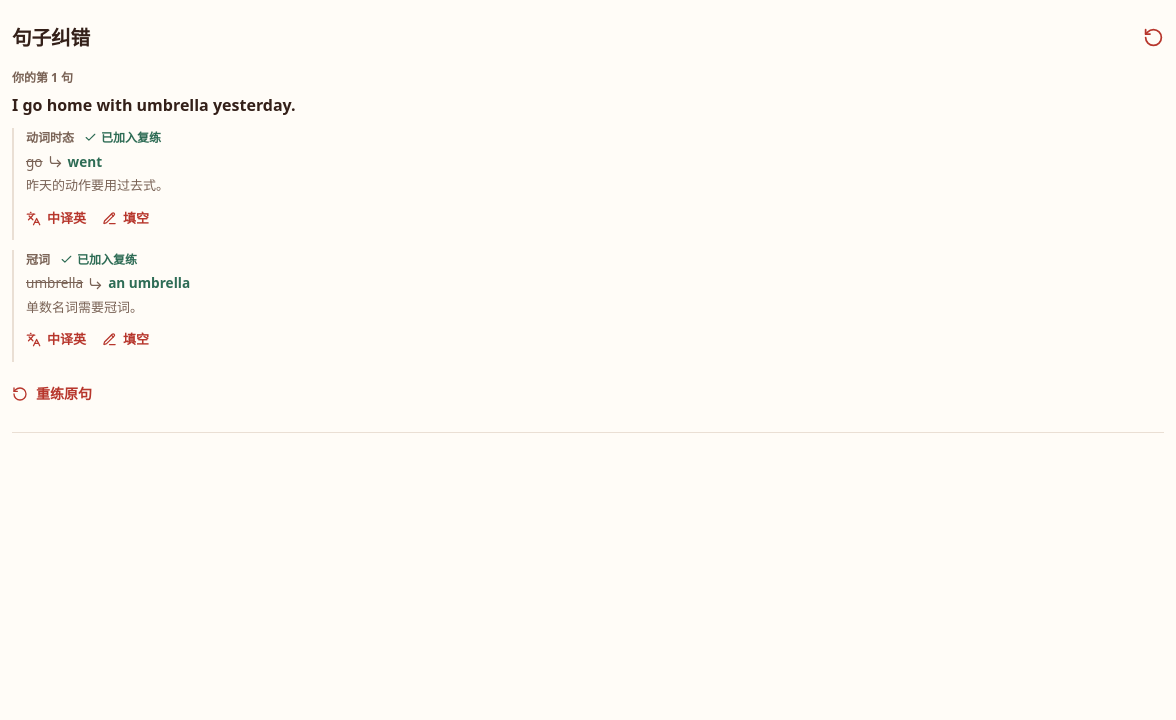
it: closes the previous drill when the learner opens another correction or the whole-sentence replay
The width and height of the screenshot is (1176, 720).
Click the button "填空" below "昨天的动作要用过去式。".
click(126, 218)  # box [102,196,149,240]
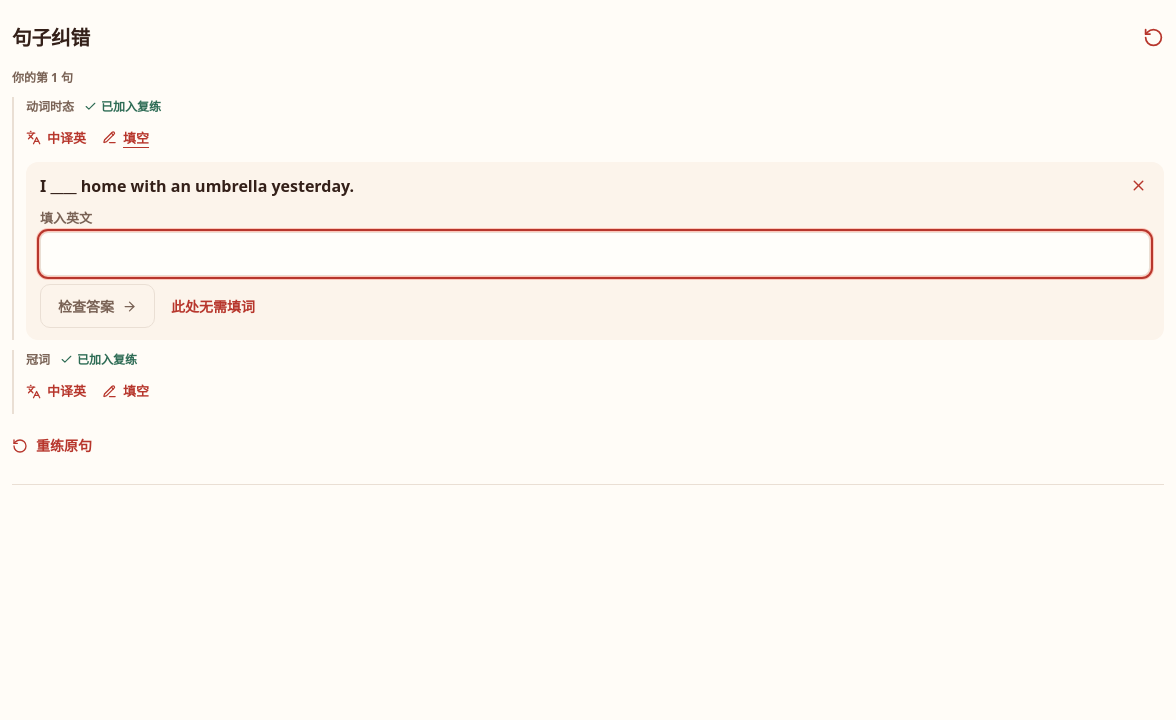
Click the button "填空" below "冠词".
click(126, 392)  # box [102,370,149,414]
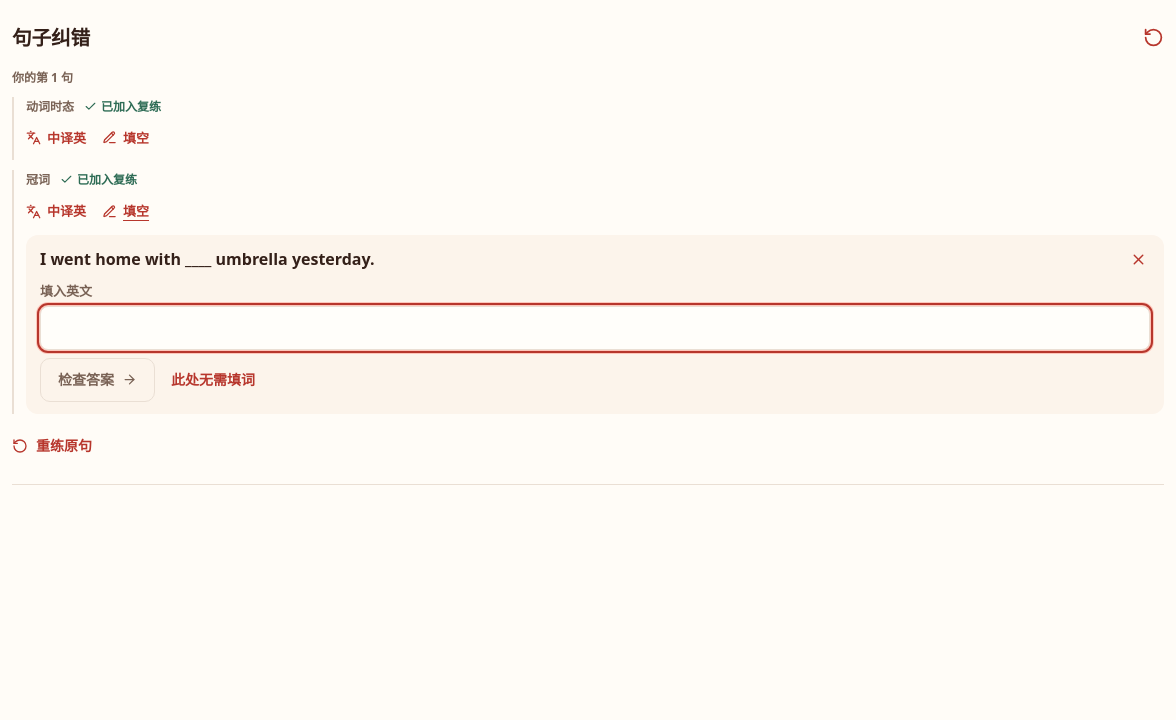
Now the number of elements named "填空练习" is 1, box [26,235,1164,414]
Now the text "I went home with ____ umbrella yesterday." is shown, box [40,248,375,270]
Click the button "重练原句".
click(52, 446)  # box [12,424,92,468]
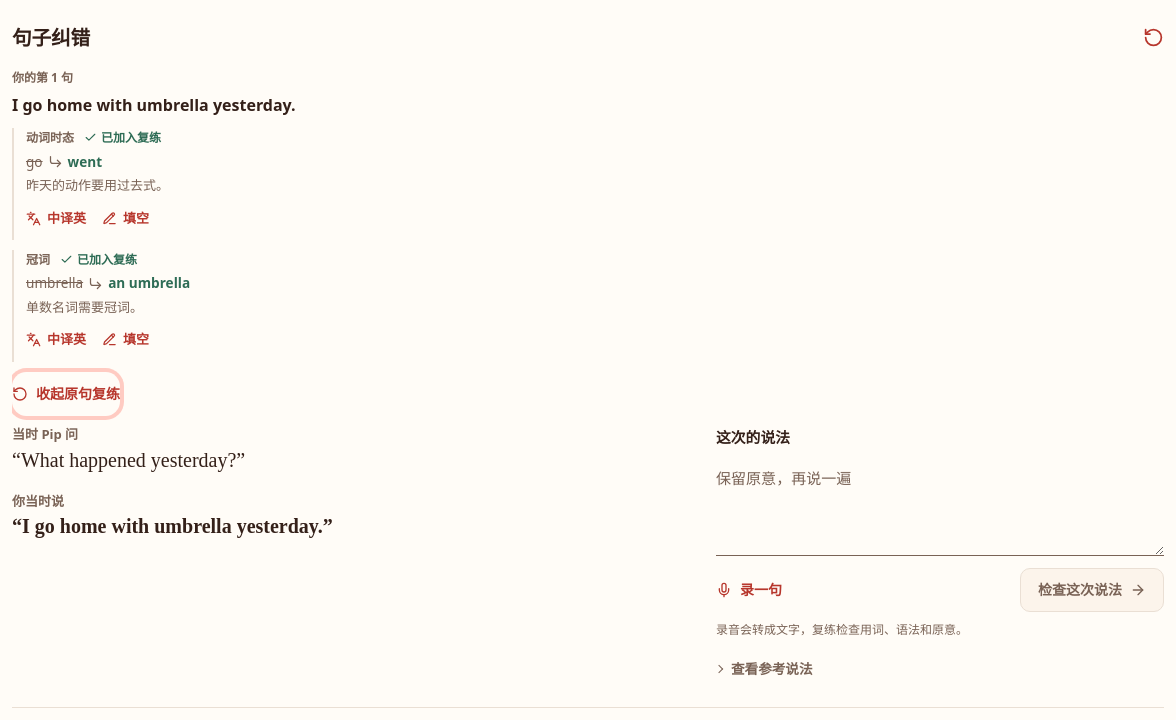
Now the element "填空练习" is gone
Now the text box labelled "这次的说法" is shown, box [716,460,1164,556]
